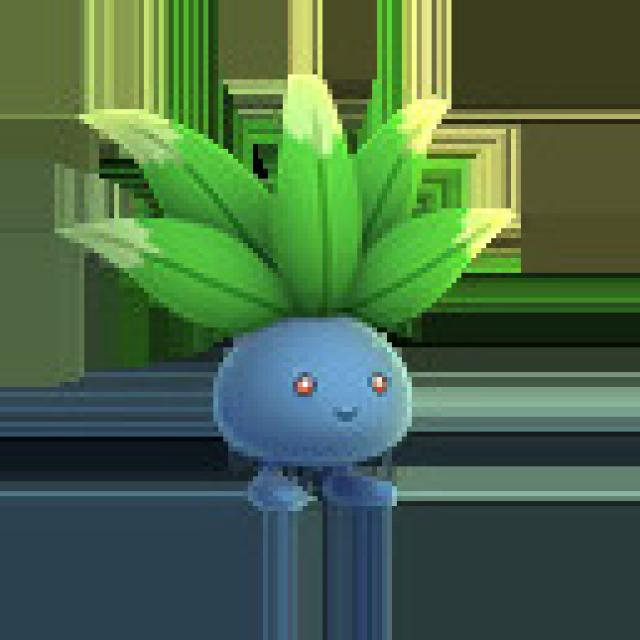Oddish: (189, 168, 446, 517)
